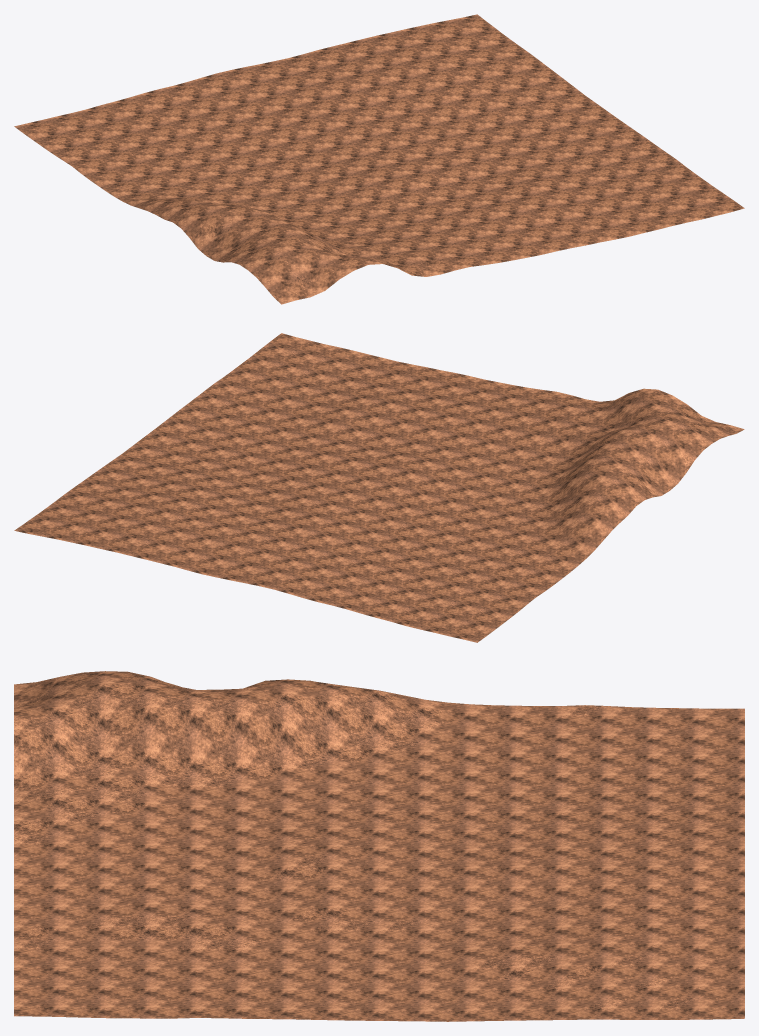
Rendered from terrain_08_02.dae.
3 renders of one model, top to bottom at view 1: azimuth 30°, elevation 25°; view 2: azimuth 150°, elevation 25°; view 3: azimuth 270°, elevation 25°, orthographic. The views are drawn at different scales.
Visible parts, largest first — view 1: terrain_08_02-node; view 2: terrain_08_02-node; view 3: terrain_08_02-node.
Part boxes in pixels (x1,y1,x2,y2): terrain_08_02-node: [14, 14, 744, 304]; terrain_08_02-node: [14, 333, 744, 642]; terrain_08_02-node: [14, 671, 744, 1021].
Size of the model in its own units: 128 by 128 by 11.22.
Materials: 1 (1 with a texture image).
